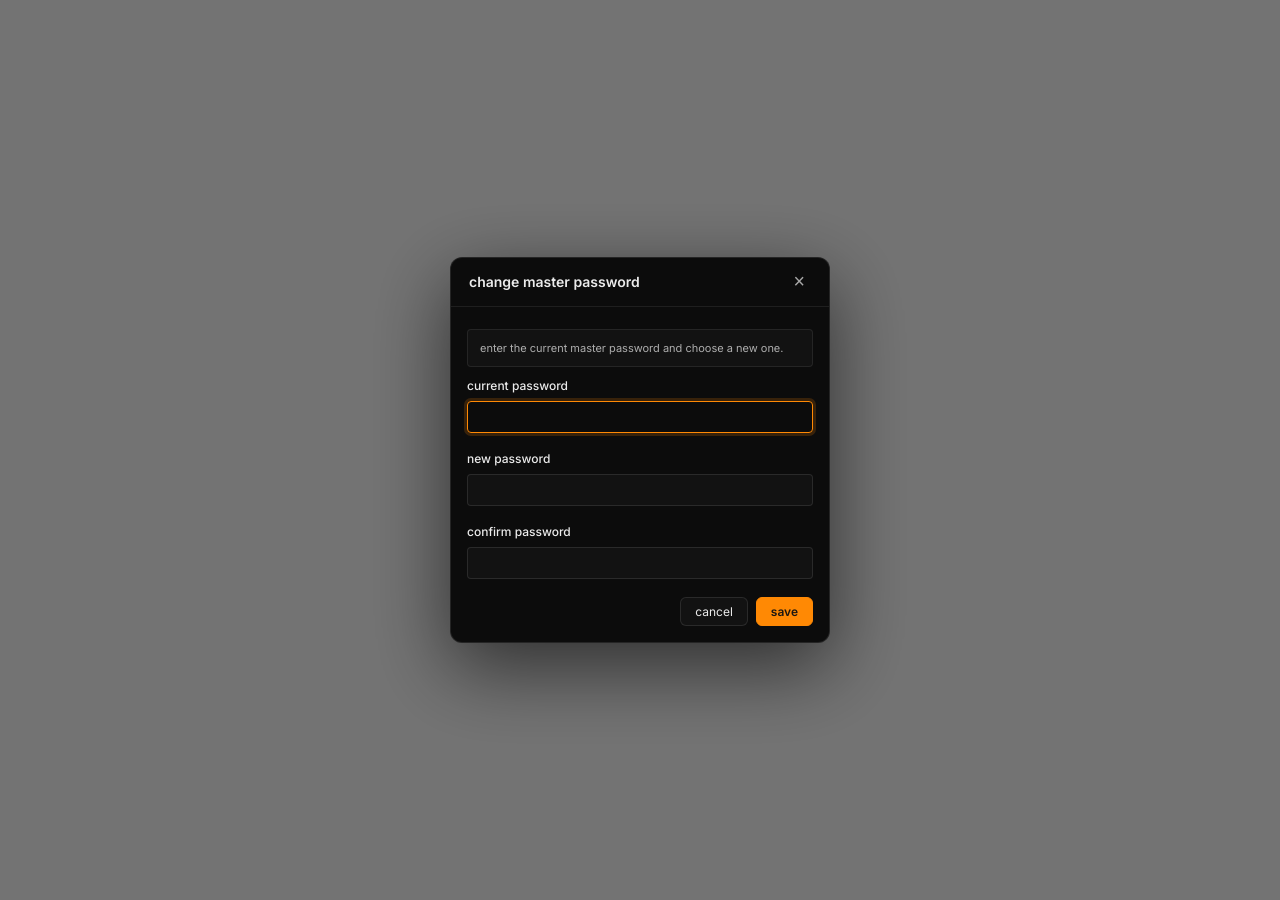
MasterPasswordModal - change mode › mismatched new passwords error
This screenshot has width=1280, height=900.
Type "oldpass" into the password field with class "settings-input" below "current password" at (640, 417), box top-left (467, 401), bottom-right (813, 433)
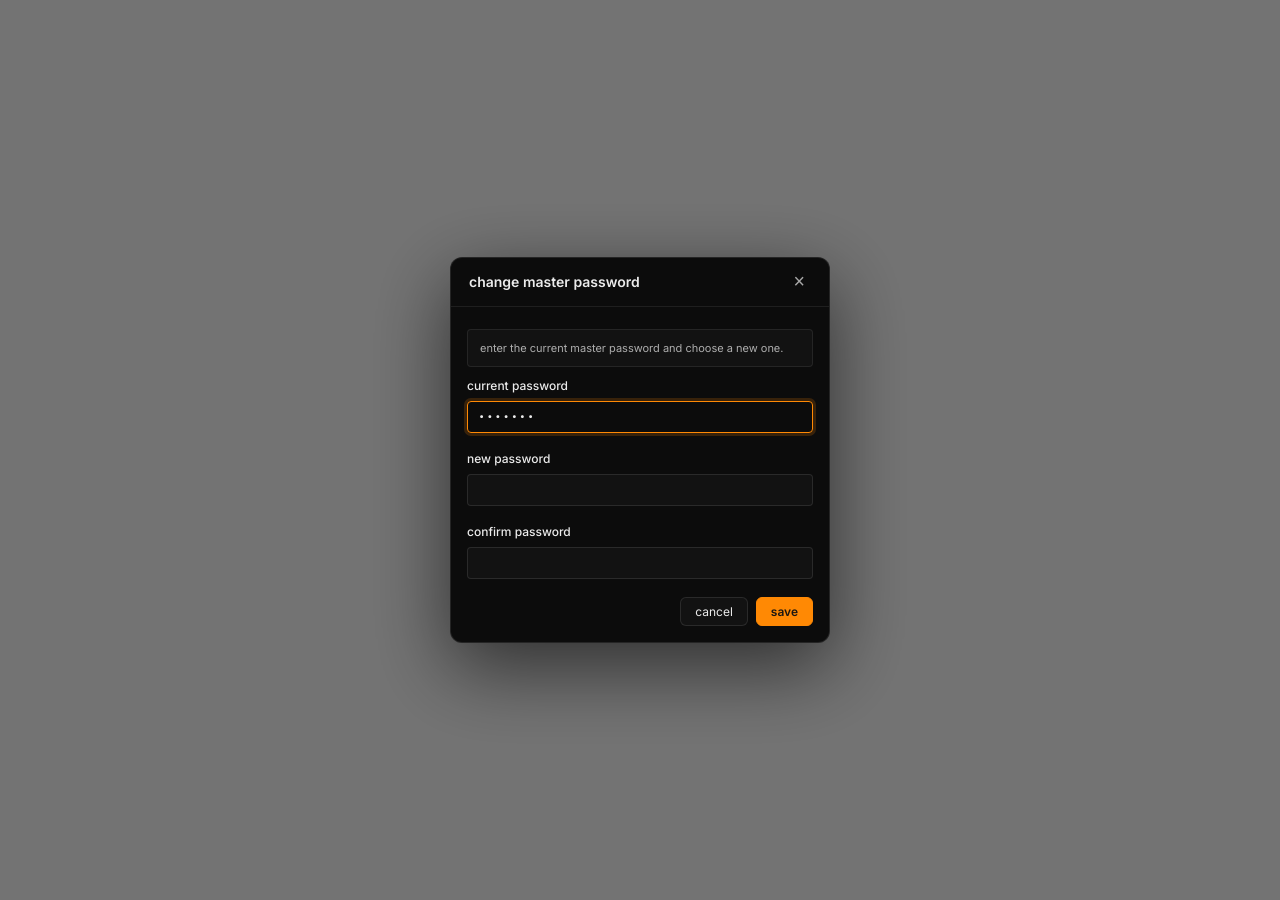
Type "longenough" into the password field with class "settings-input" below "new password" at (640, 490), box top-left (467, 474), bottom-right (813, 506)
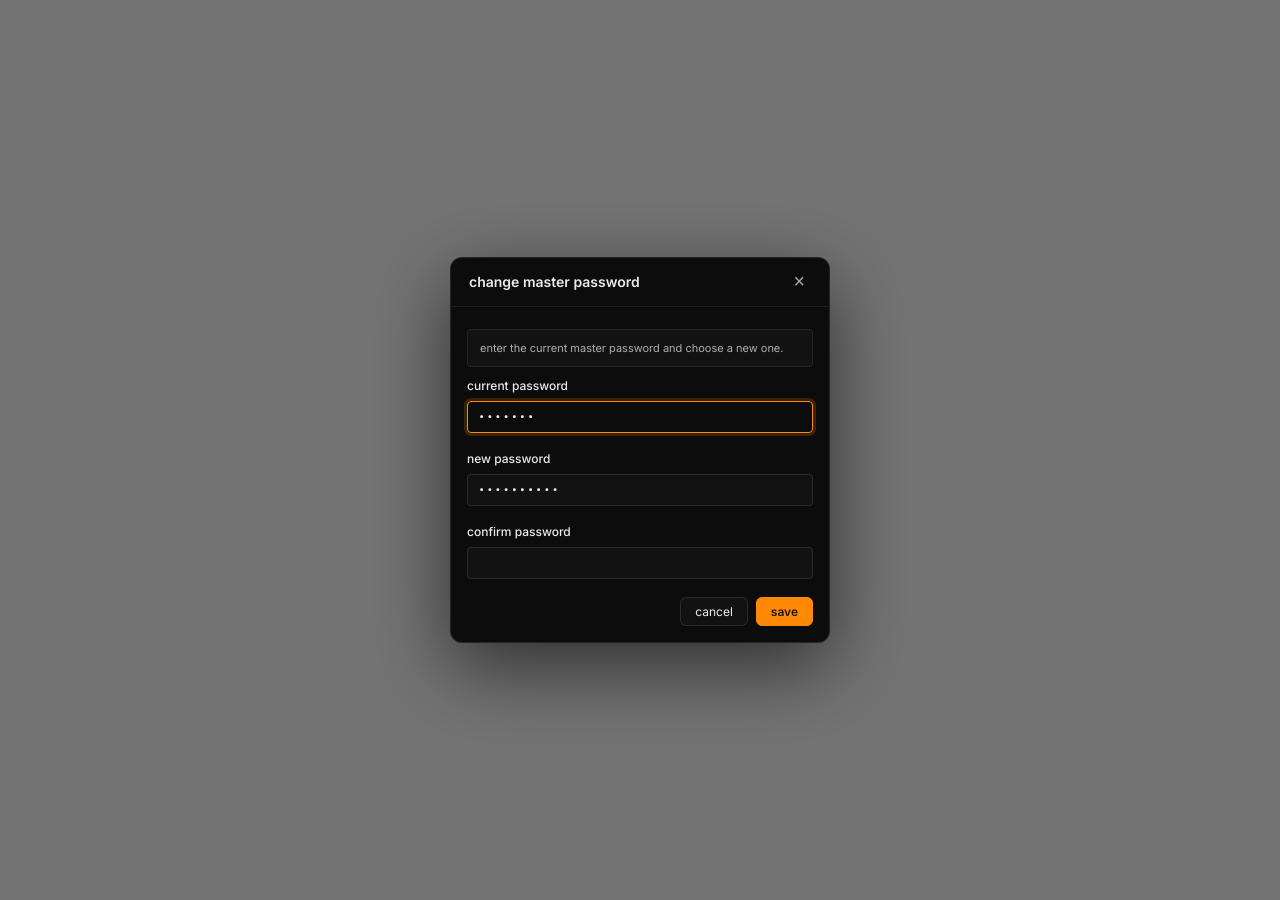
Type "different1" into the password field with class "settings-input" below "confirm password" at (640, 563), box top-left (467, 547), bottom-right (813, 579)
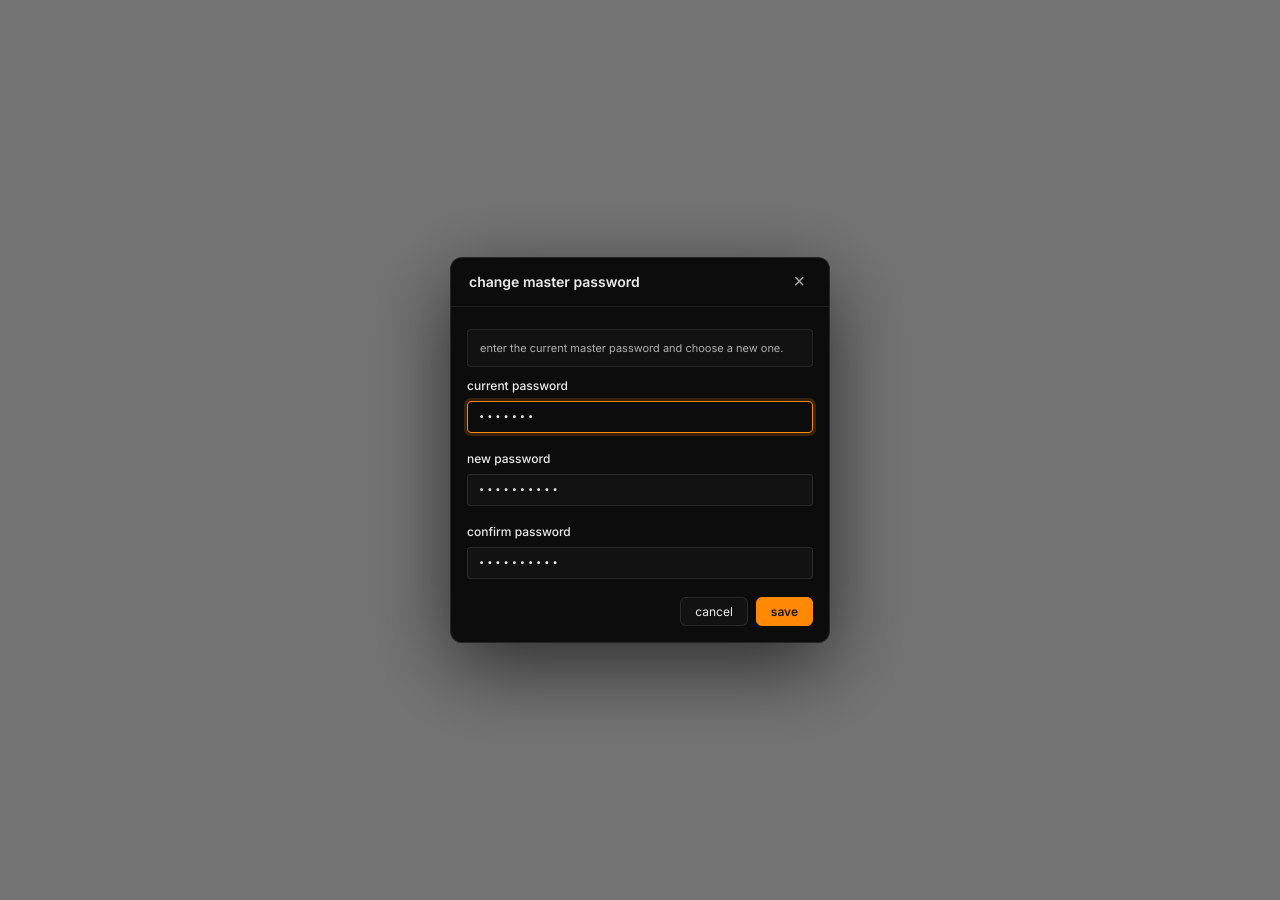
Click the button "save" at (784, 612), box top-left (756, 597), bottom-right (813, 626)
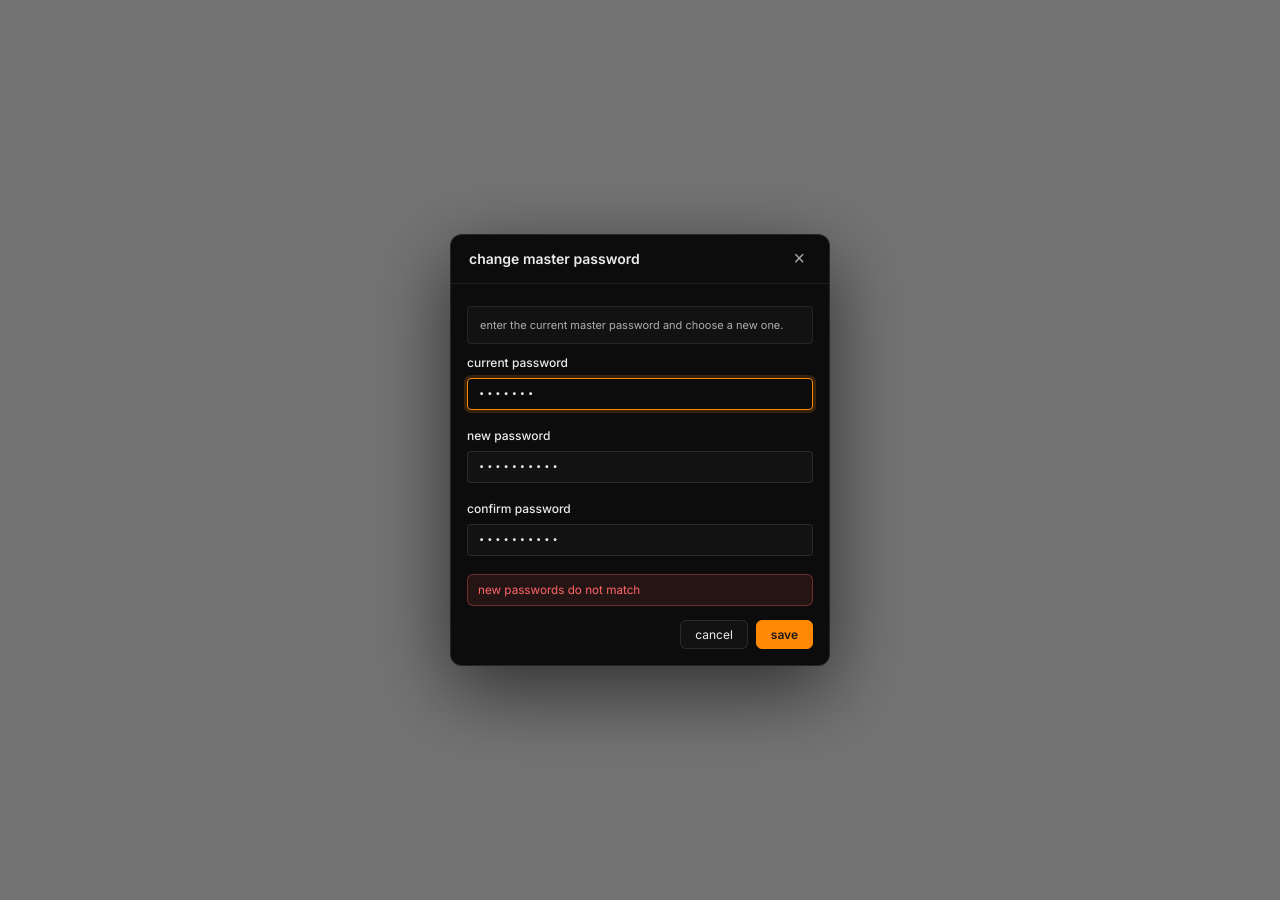
Expected: the text "new passwords do not match" is shown, top-left (467, 574), bottom-right (813, 606)
